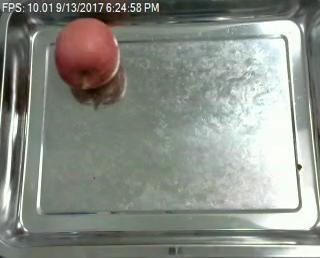apple: (54, 18, 121, 89)
